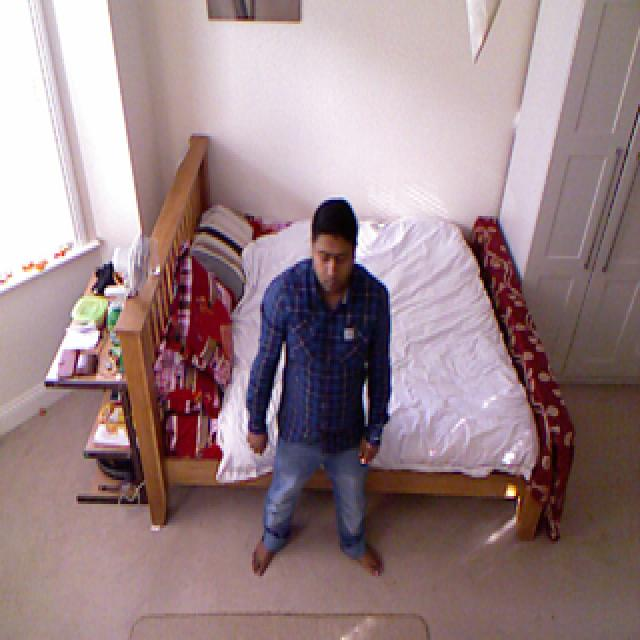standing: (251, 190, 398, 590)
